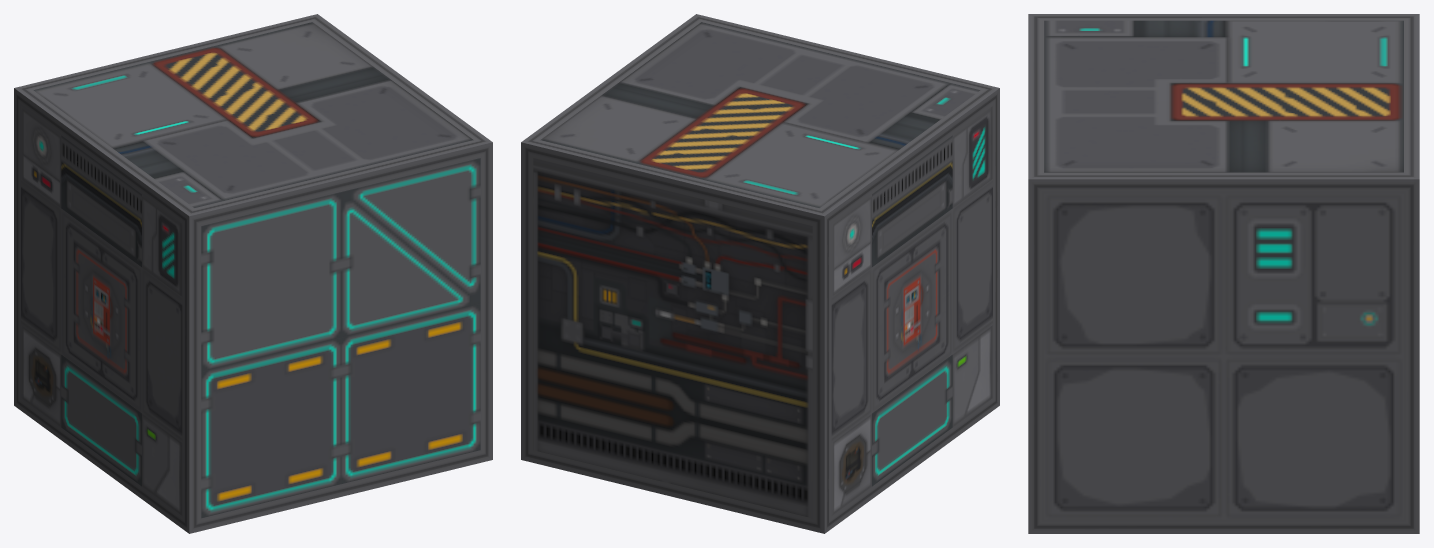
File: SM_Prop_Greeble_Cube_01.fbx
The picture shows the model from 3 angles, left to right: view 1: azimuth 30°, elevation 25°; view 2: azimuth 150°, elevation 25°; view 3: azimuth 270°, elevation 25°; orthographic projection. The views are drawn at different scales.
Parts seen in each view (by area): view 1: SM_Prop_Greeble_Cube_01; view 2: SM_Prop_Greeble_Cube_01; view 3: SM_Prop_Greeble_Cube_01.
Boxes of the visible parts, x1,y1,x2,y2 form: SM_Prop_Greeble_Cube_01: (14, 14, 492, 533); SM_Prop_Greeble_Cube_01: (521, 14, 999, 533); SM_Prop_Greeble_Cube_01: (1028, 14, 1419, 533).
Bounding box in the file's own units: 250 × 250 × 250.
